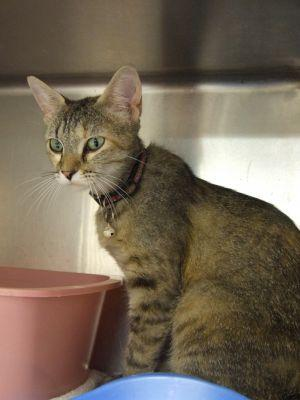bengal: (20, 63, 157, 196)
